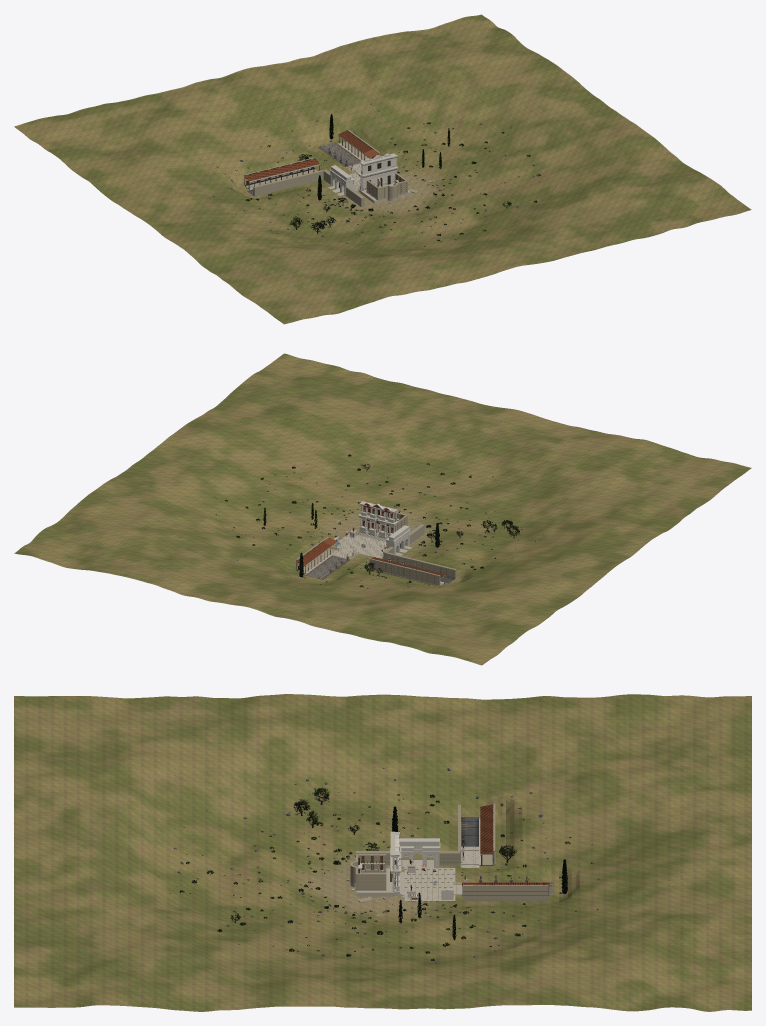
The model's file is celsus-kutuphanesi-baked.glb.
The picture shows the model from 3 angles, top to bottom: view 1: azimuth 30°, elevation 25°; view 2: azimuth 150°, elevation 25°; view 3: azimuth 270°, elevation 25°; orthographic projection. The views are drawn at different scales.
Parts seen in each view (by area): view 1: celsus-kutuphanesi-terrain, celsus-kutuphanesi-ground, celsus-kutuphanesi-near-t2, celsus-kutuphanesi-near-t5, celsus-kutuphanesi-near-t0, celsus-kutuphanesi-flora-t1; view 2: celsus-kutuphanesi-terrain, celsus-kutuphanesi-ground, celsus-kutuphanesi-near-t0, celsus-kutuphanesi-near-t3, celsus-kutuphanesi-flora-t1, celsus-kutuphanesi-near-t2; view 3: celsus-kutuphanesi-terrain, celsus-kutuphanesi-ground, celsus-kutuphanesi-near-t0, celsus-kutuphanesi-near-t5, celsus-kutuphanesi-near-t3, celsus-kutuphanesi-flora-t1, celsus-kutuphanesi-near-t2, celsus-kutuphanesi-flora-t2, celsus-kutuphanesi-flora-t3, celsus-kutuphanesi-detail-t0, celsus-kutuphanesi-flora-t0, celsus-kutuphanesi-near-t1 (+1 smaller).
Part boxes in pixels (x1,y1,x2,y2): celsus-kutuphanesi-terrain: [14, 14, 751, 324]; celsus-kutuphanesi-ground: [244, 129, 431, 196]; celsus-kutuphanesi-near-t2: [346, 156, 409, 207]; celsus-kutuphanesi-near-t5: [363, 154, 418, 202]; celsus-kutuphanesi-near-t0: [323, 155, 379, 195]; celsus-kutuphanesi-flora-t1: [235, 175, 456, 250]; celsus-kutuphanesi-terrain: [14, 353, 751, 665]; celsus-kutuphanesi-ground: [296, 520, 456, 585]; celsus-kutuphanesi-near-t0: [356, 503, 412, 558]; celsus-kutuphanesi-near-t3: [332, 502, 386, 552]; celsus-kutuphanesi-flora-t1: [409, 471, 544, 556]; celsus-kutuphanesi-near-t2: [364, 504, 424, 544]; celsus-kutuphanesi-terrain: [14, 694, 751, 1011]; celsus-kutuphanesi-ground: [376, 803, 553, 915]; celsus-kutuphanesi-near-t0: [394, 831, 460, 894]; celsus-kutuphanesi-near-t5: [350, 833, 395, 902]; celsus-kutuphanesi-near-t3: [394, 839, 456, 901]; celsus-kutuphanesi-flora-t1: [174, 767, 394, 882]; celsus-kutuphanesi-near-t2: [346, 831, 395, 892]; celsus-kutuphanesi-flora-t2: [398, 859, 600, 963]; celsus-kutuphanesi-flora-t3: [158, 876, 389, 956]; celsus-kutuphanesi-detail-t0: [461, 805, 493, 855]; celsus-kutuphanesi-flora-t0: [394, 768, 593, 879]; celsus-kutuphanesi-near-t1: [456, 808, 479, 884].
Bounding box in the file's own units: 287 × 21.46 × 287.
43 materials, 33 textured.
